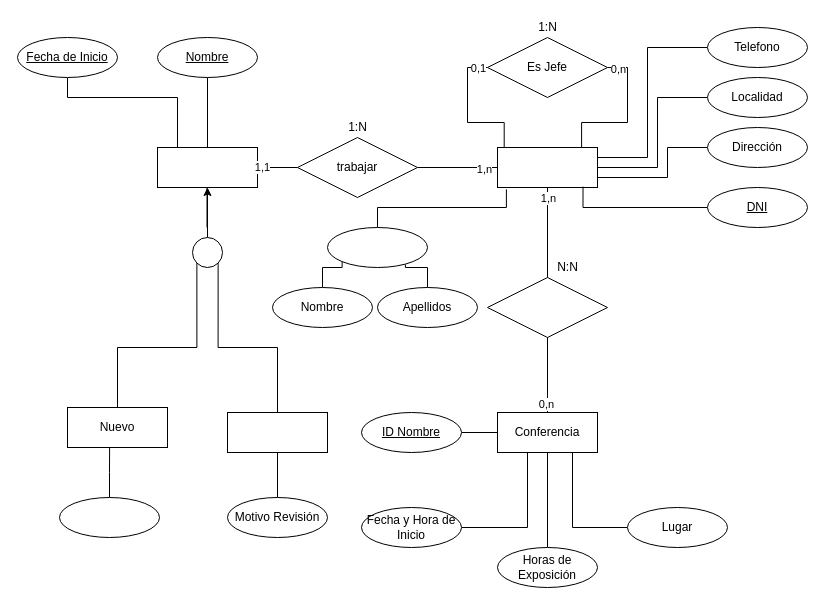
This 825x605 diagram has some shape labels left out. The centre of each missing label's shape, as x and y in pixels:
"D.T" goes at [207,252].
"Datos personales" goes at [377,247].
"Investigador" goes at [547,167].
"Presupuesto" goes at [109,517].
"Proyecto" goes at [207,167].
"Realizan" goes at [547,307].
"Revisión" goes at [277,432].
